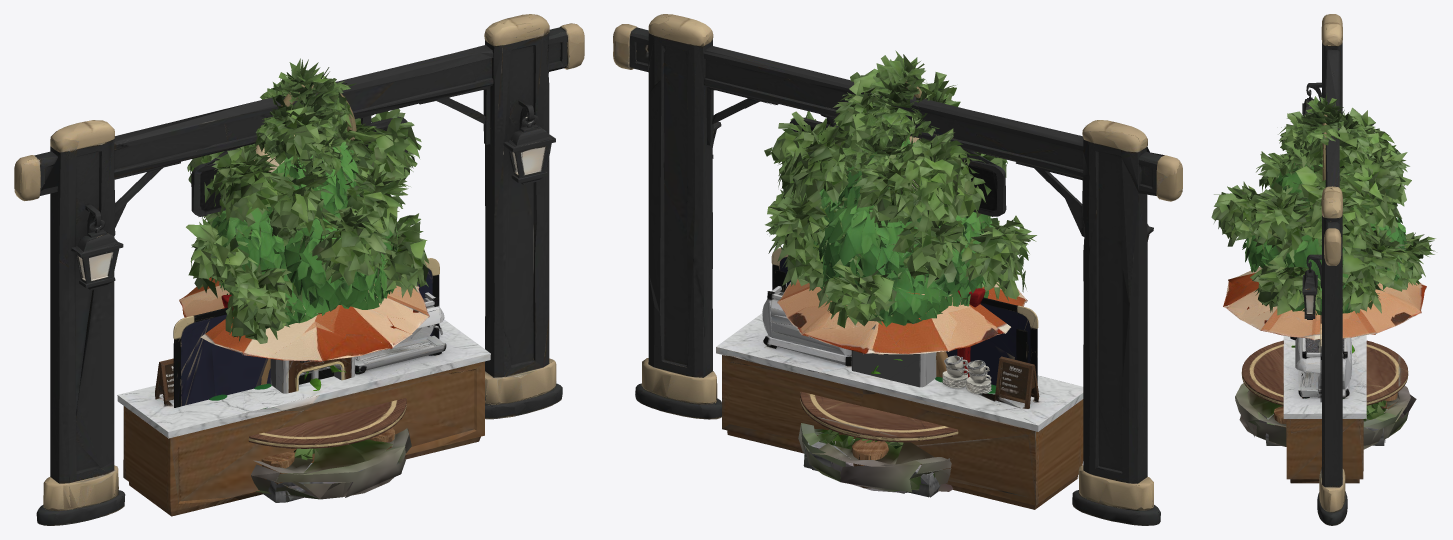
Rendered from meshy-props.glb.
3 renders of one model, left to right at view 1: azimuth 30°, elevation 25°; view 2: azimuth 150°, elevation 25°; view 3: azimuth 270°, elevation 25°, orthographic. The views are drawn at different scales.
Visible parts, largest first — view 1: kapi, agac-genis, kahve-tezgahi, agac, kafe-masasi, agac-ince, pano-cercevesi, konsey-masasi, kiosk; view 2: kapi, agac-genis, kahve-tezgahi, agac, kafe-masasi, agac-ince, konsey-masasi, pano-cercevesi, kahve-makinesi, gong; view 3: agac-genis, kapi, kahve-tezgahi, kafe-masasi, konsey-masasi, agac-ince, agac.
Boxes of the visible parts, x1,y1,x2,y2 form: kapi: (14, 14, 584, 525); agac-genis: (186, 76, 429, 499); kahve-tezgahi: (117, 292, 490, 516); agac: (211, 138, 400, 488); kafe-masasi: (179, 277, 429, 487); agac-ince: (249, 58, 401, 502); pano-cercevesi: (173, 258, 439, 407); konsey-masasi: (248, 398, 406, 448); kiosk: (270, 356, 354, 393); kapi: (613, 14, 1182, 525); agac-genis: (764, 68, 1036, 492); kahve-tezgahi: (716, 283, 1083, 509); agac: (813, 138, 993, 493); kafe-masasi: (777, 279, 1027, 488); agac-ince: (803, 50, 950, 497); konsey-masasi: (800, 391, 958, 442); pano-cercevesi: (771, 248, 1038, 402); kahve-makinesi: (851, 350, 920, 387); gong: (936, 288, 985, 377); agac-genis: (1211, 107, 1435, 449); kapi: (1302, 14, 1347, 525); kahve-tezgahi: (1283, 335, 1366, 483); kafe-masasi: (1223, 266, 1426, 427); konsey-masasi: (1241, 340, 1408, 405); agac-ince: (1265, 93, 1385, 445); agac: (1242, 162, 1407, 428).
Bounding box in the file's own units: 7 × 4.8 × 3.
30 materials, 30 textured.
